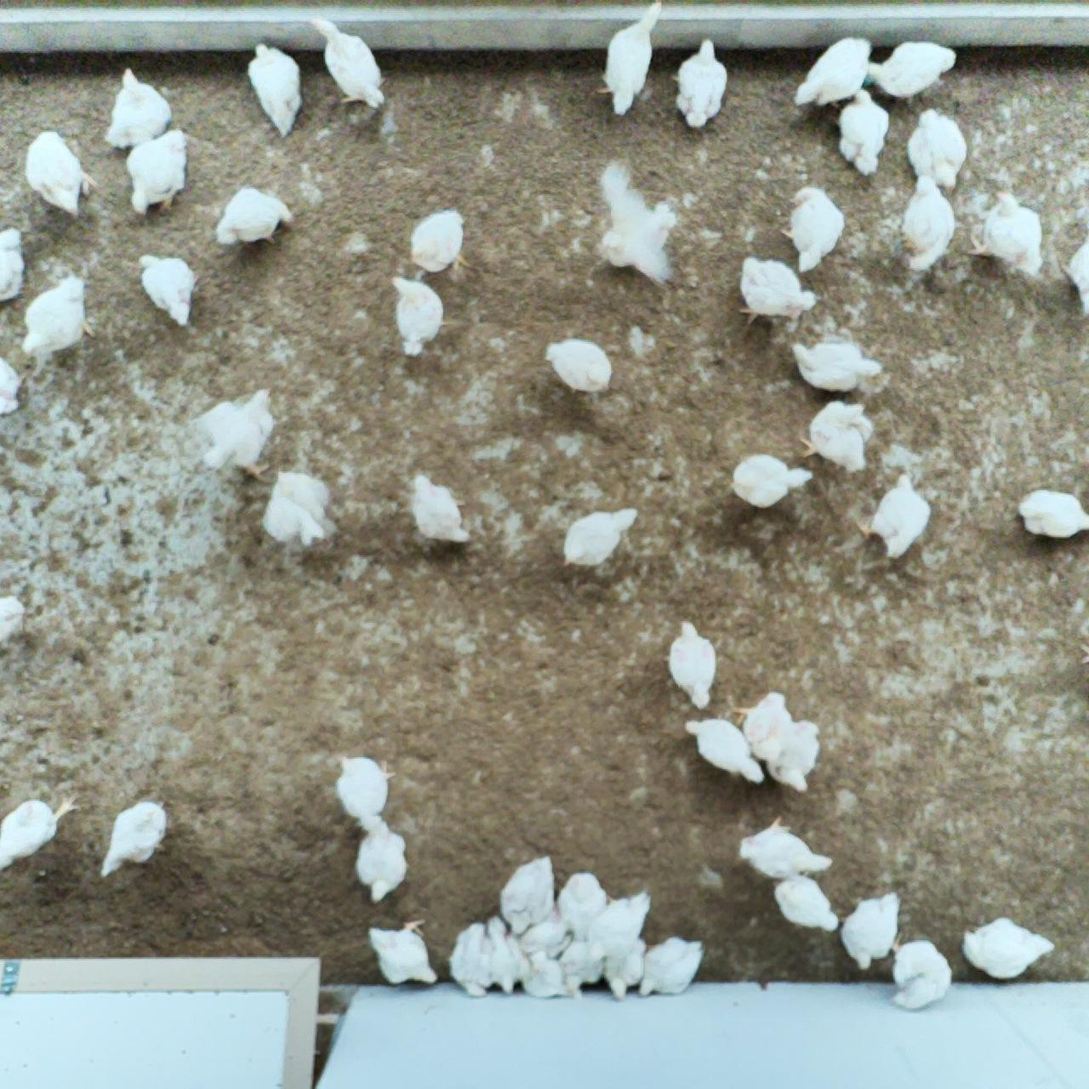chicken: (589, 159, 685, 290), (188, 385, 284, 489), (591, 0, 669, 123), (964, 182, 1051, 281), (849, 469, 936, 565), (19, 270, 97, 374), (309, 14, 391, 112), (22, 125, 101, 222), (775, 181, 850, 279), (787, 34, 876, 116), (0, 787, 80, 878), (894, 170, 960, 280), (734, 251, 821, 334), (95, 796, 175, 885), (961, 913, 1059, 985), (255, 464, 339, 547), (242, 36, 306, 143), (680, 707, 766, 786), (863, 37, 960, 107), (383, 268, 452, 366), (735, 812, 834, 879), (782, 334, 888, 396), (101, 63, 173, 154), (667, 34, 734, 131), (903, 107, 973, 199), (838, 888, 910, 977), (405, 467, 477, 555), (796, 395, 877, 473), (126, 125, 190, 222), (658, 614, 720, 713), (208, 182, 295, 252), (499, 851, 565, 939), (364, 916, 442, 989), (351, 819, 414, 909), (558, 505, 642, 572), (589, 887, 655, 971), (887, 931, 955, 1012), (332, 751, 397, 833), (836, 85, 891, 181), (727, 450, 816, 509), (730, 689, 795, 769), (542, 335, 619, 402), (135, 250, 198, 328), (407, 205, 474, 278), (639, 931, 706, 1002), (765, 716, 824, 795), (446, 918, 500, 1000), (479, 913, 531, 998), (1013, 485, 1089, 543), (554, 866, 610, 943), (771, 876, 842, 935), (517, 947, 585, 1001), (559, 934, 606, 995), (1057, 234, 1089, 316), (517, 916, 576, 960), (0, 353, 34, 423), (0, 225, 26, 311), (0, 594, 26, 649)
